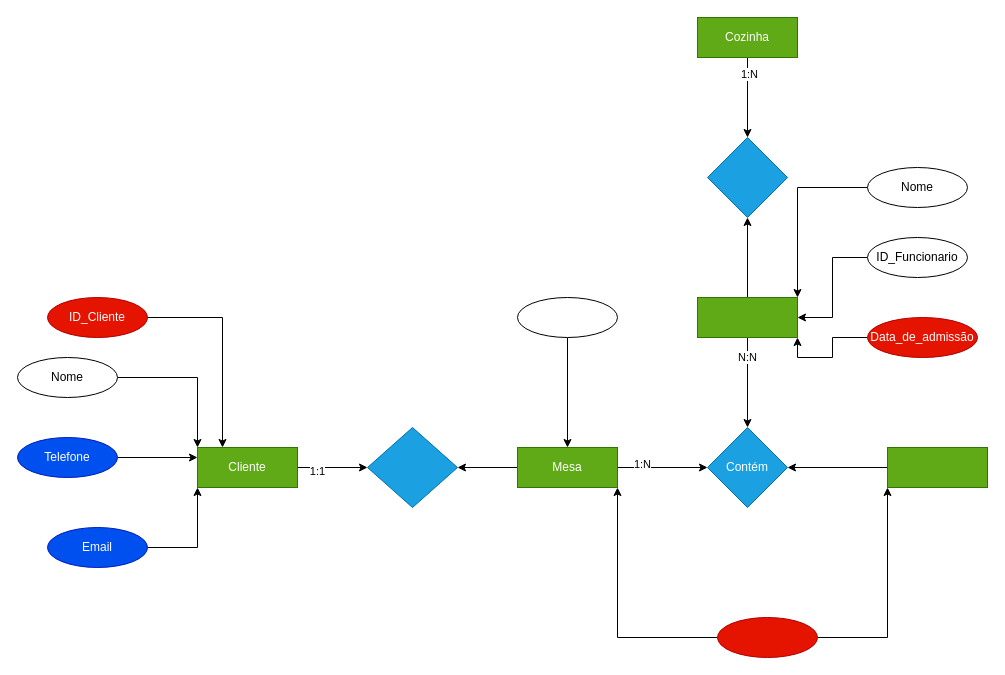
Some shapes in this 1005 by 675 pixel diagram are drawn without their labels. Each missing label, with the centre of its shape:
"Atendente" goes at pixel 747 317.
"Cardapio" goes at pixel 937 467.
"Envia o pedido" goes at pixel 747 177.
"Número" goes at pixel 567 317.
"Pedido" goes at pixel 767 637.
"Reserva/Senta" goes at pixel 412 467.
